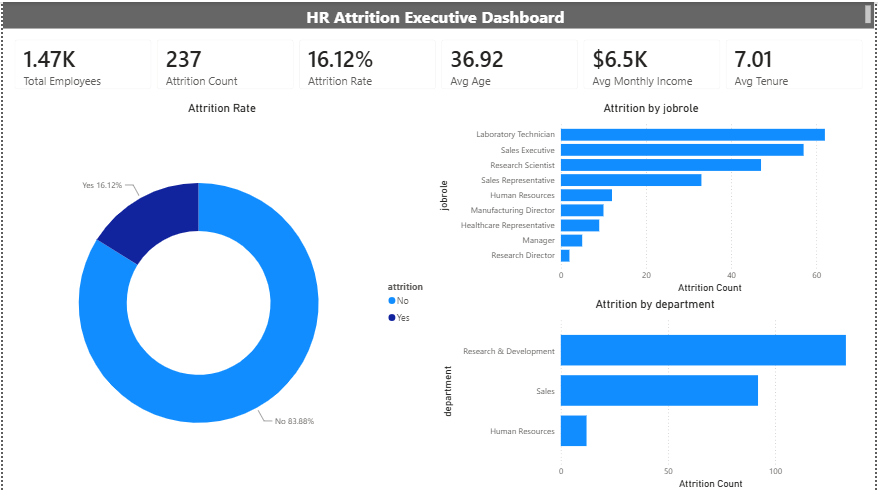

The dashboard page shown, as its layout file describes it:
{"tool":"powerbi","page":{"name":"HR Attrition Executive Dashboard","canvas":[1280,720],"ordinal":0},"visuals":[{"type":"cardVisual","fields":{"Data":["Measure.Total Employees","Measure.Attrition Count","Measure.Attrition Rate","Measure.Avg Age","Measure.Avg Monthly Income","Measure.Avg Tenure"]},"box":[0,38.6,1280,107.5],"z":0},{"type":"donutChart","title":"Attrition Rate","fields":{"Category":["fact_employee_attrition.attrition"],"Y":["CountNonNull(fact_employee_attrition.employeenumber)"]},"box":[5,146.1,635,574.5],"z":1000},{"type":"clusteredBarChart","title":"Attrition by department","fields":{"Y":["Measure.Attrition Count"],"Category":["fact_employee_attrition.department"]},"box":[640,433.4,635,287.2],"z":1001},{"type":"clusteredBarChart","title":"Attrition by jobrole","fields":{"Y":["Measure.Attrition Count"],"Category":["fact_employee_attrition.jobrole"]},"box":[635,146.1,635,287.2],"z":1002},{"type":"textbox","box":[0,0,1280,38.6],"z":1003}]}

Visuals, with their boxes in screenshot pixels (x1, y1, x2, y2), scaled from the page's 1280x720 canvas onto the 878x491 screenshot:
cardVisual - Measure.Total Employees x Measure.Attrition Count: bbox(0, 26, 877, 100)
"Attrition Rate" donutChart: bbox(3, 100, 439, 490)
"Attrition by department" clusteredBarChart: bbox(439, 296, 875, 490)
"Attrition by jobrole" clusteredBarChart: bbox(436, 100, 871, 295)
textbox: bbox(0, 0, 877, 26)
